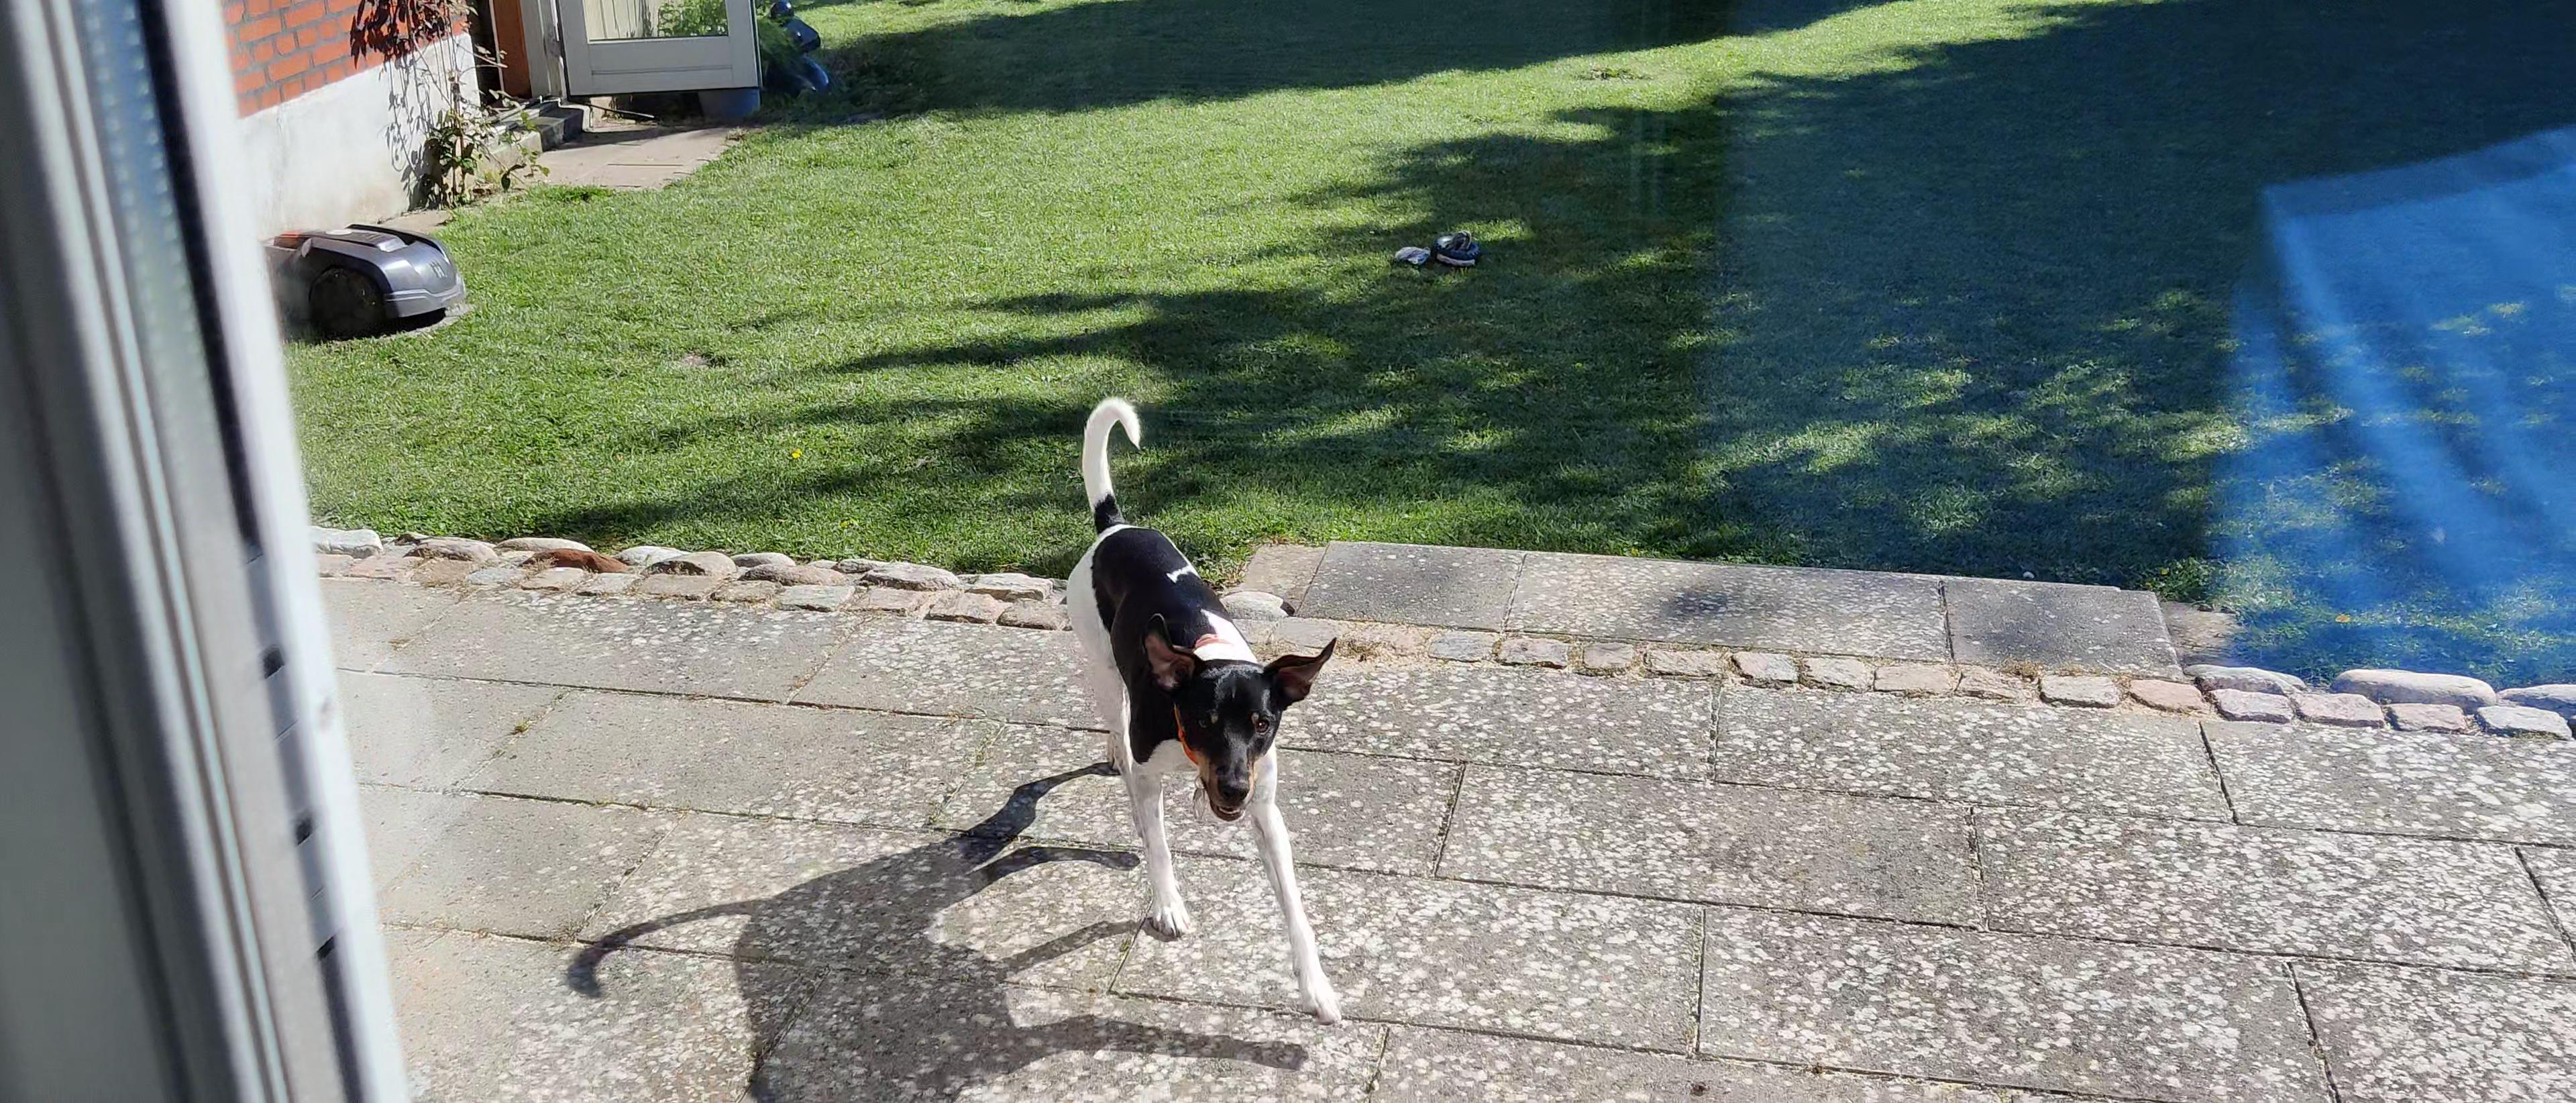Dog: (1060, 390, 1344, 1031)
